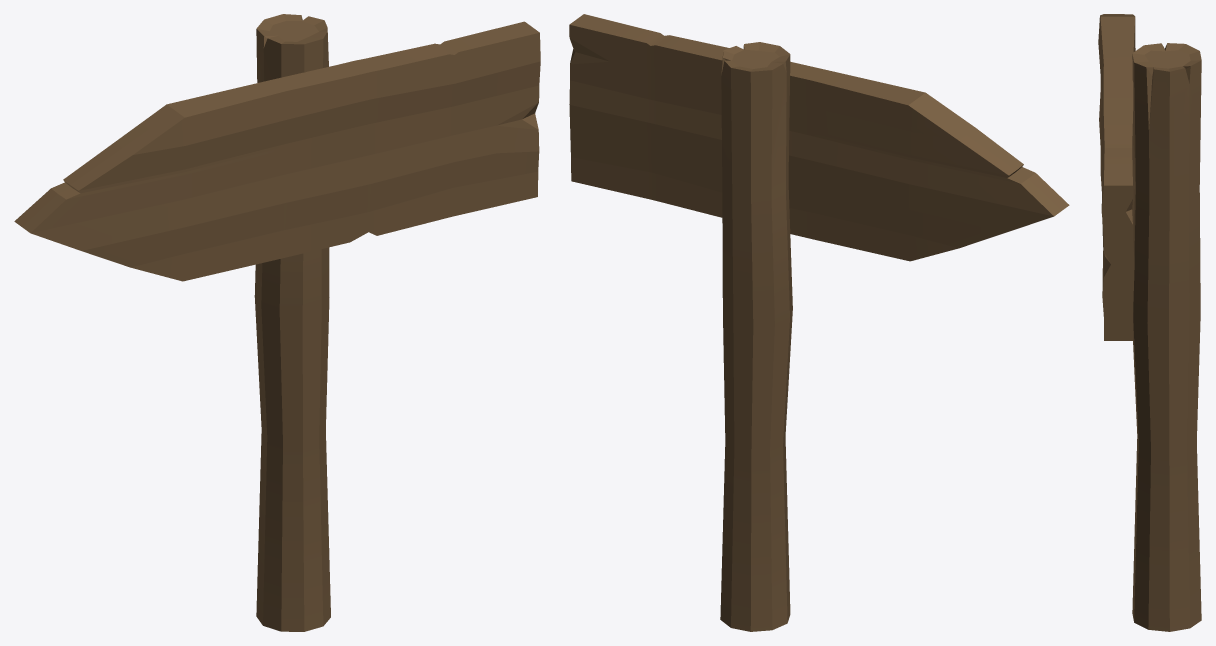
File: left_arrow_sign.fbx
3 views of the same model, side by side, from view 1: azimuth 30°, elevation 25°; view 2: azimuth 150°, elevation 25°; view 3: azimuth 270°, elevation 25° (orthographic). The views are drawn at different scales.
Visible parts, largest first — view 1: arrow, sign_post; view 2: arrow, sign_post; view 3: sign_post, arrow.
Boxes of the visible parts, x1,y1,x2,y2 form: arrow: (14,21,540,281); sign_post: (254,14,330,631); arrow: (569,14,1069,261); sign_post: (720,42,792,631); sign_post: (1132,43,1201,631); arrow: (1098,14,1135,340).
Bounding box in the file's own units: 96.18 × 106 × 17.73.
